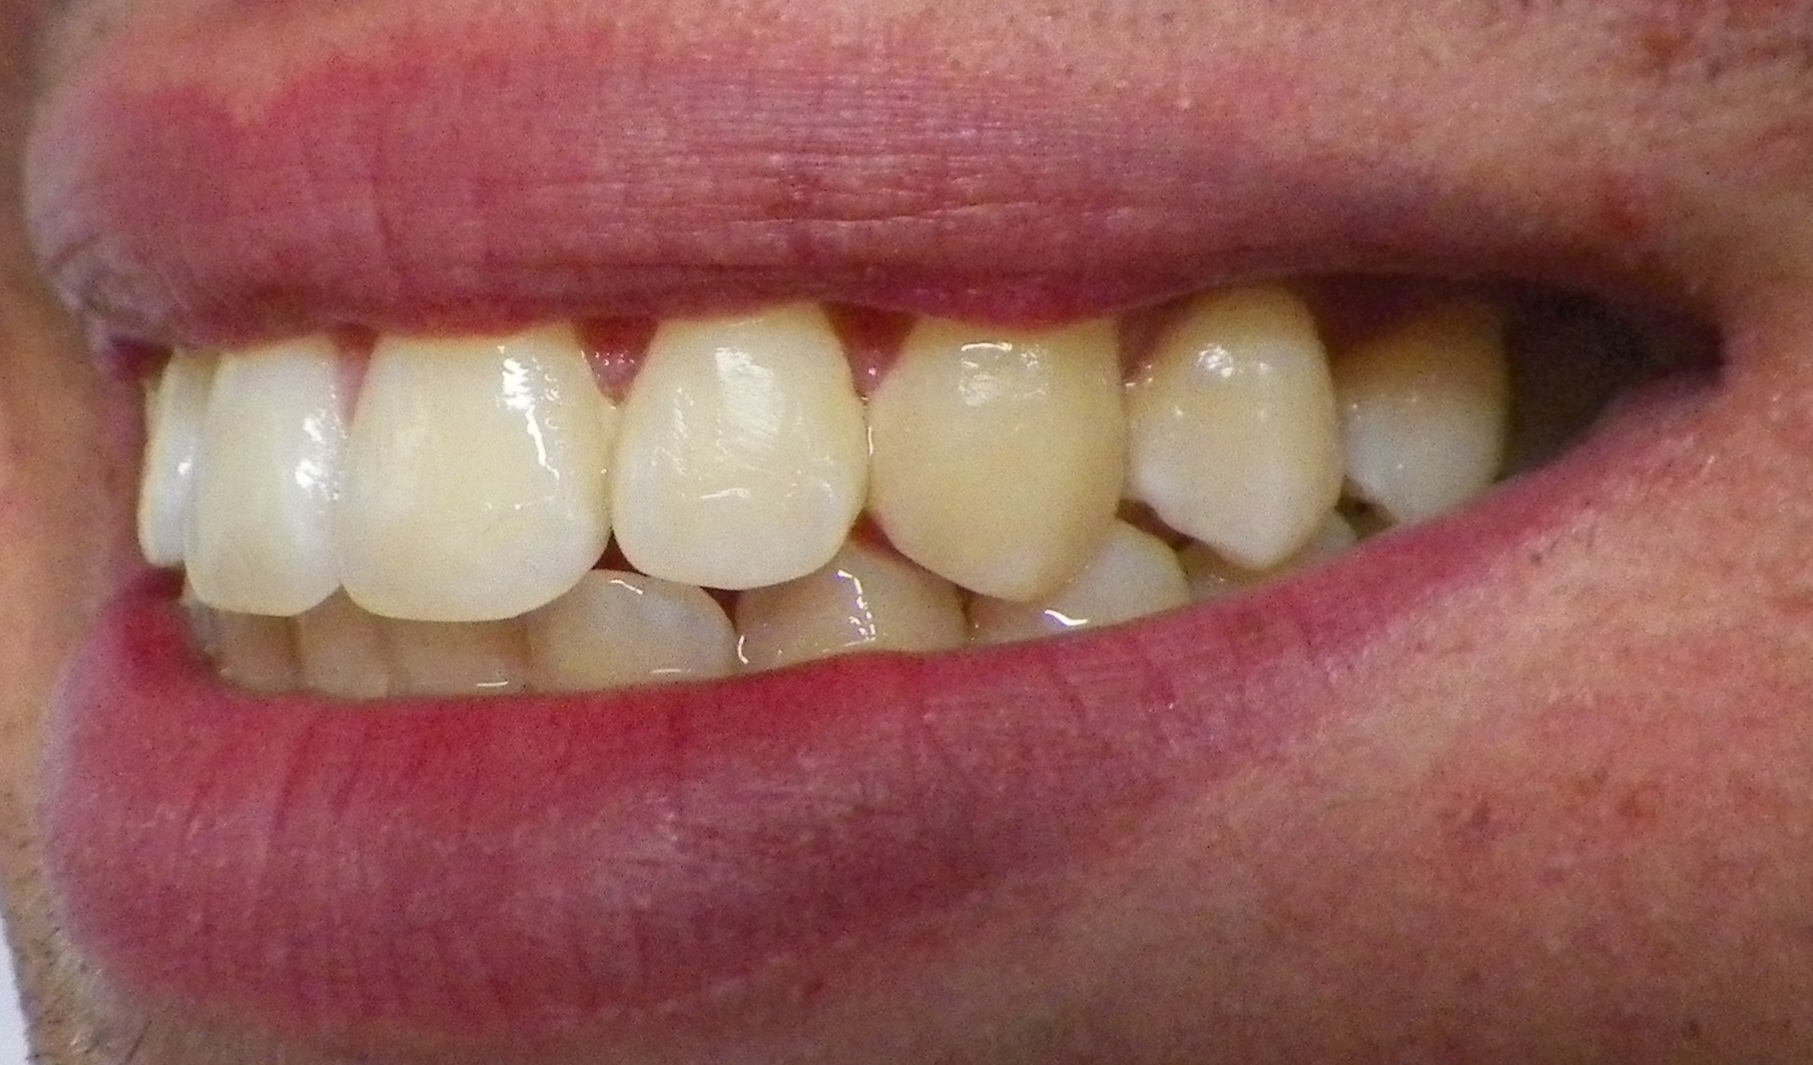boca: (145, 297, 1609, 706)
